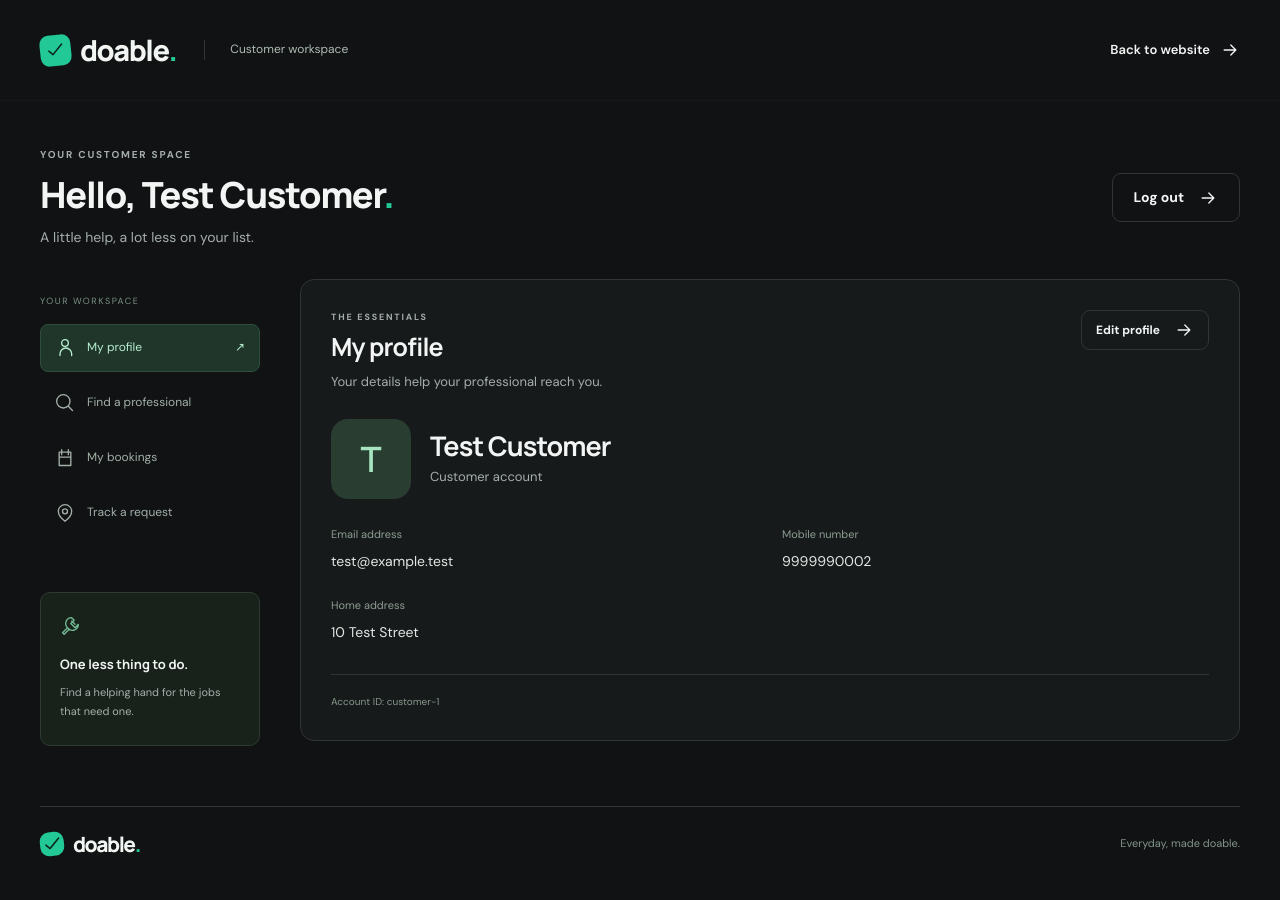
customer history and details show status, API clientAddress and existing photo attachments
Click the button "My bookings". click: (150, 458)
box: [40,434,260,482]
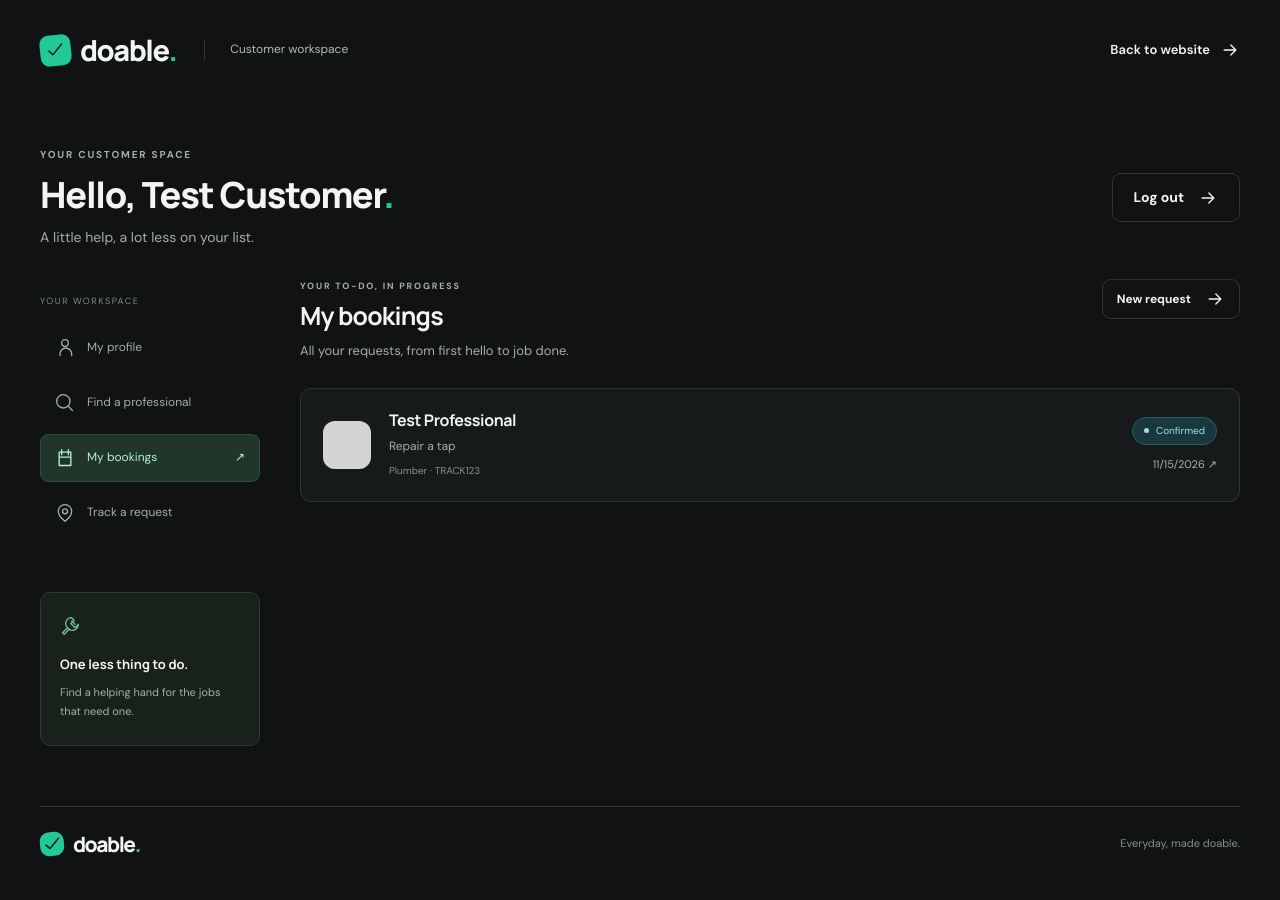
Now the text "confirmed" is shown, box [1132,417,1217,445]
Click the button that starts with "Test Professional". click: (347, 445)
box: [300,388,1240,502]
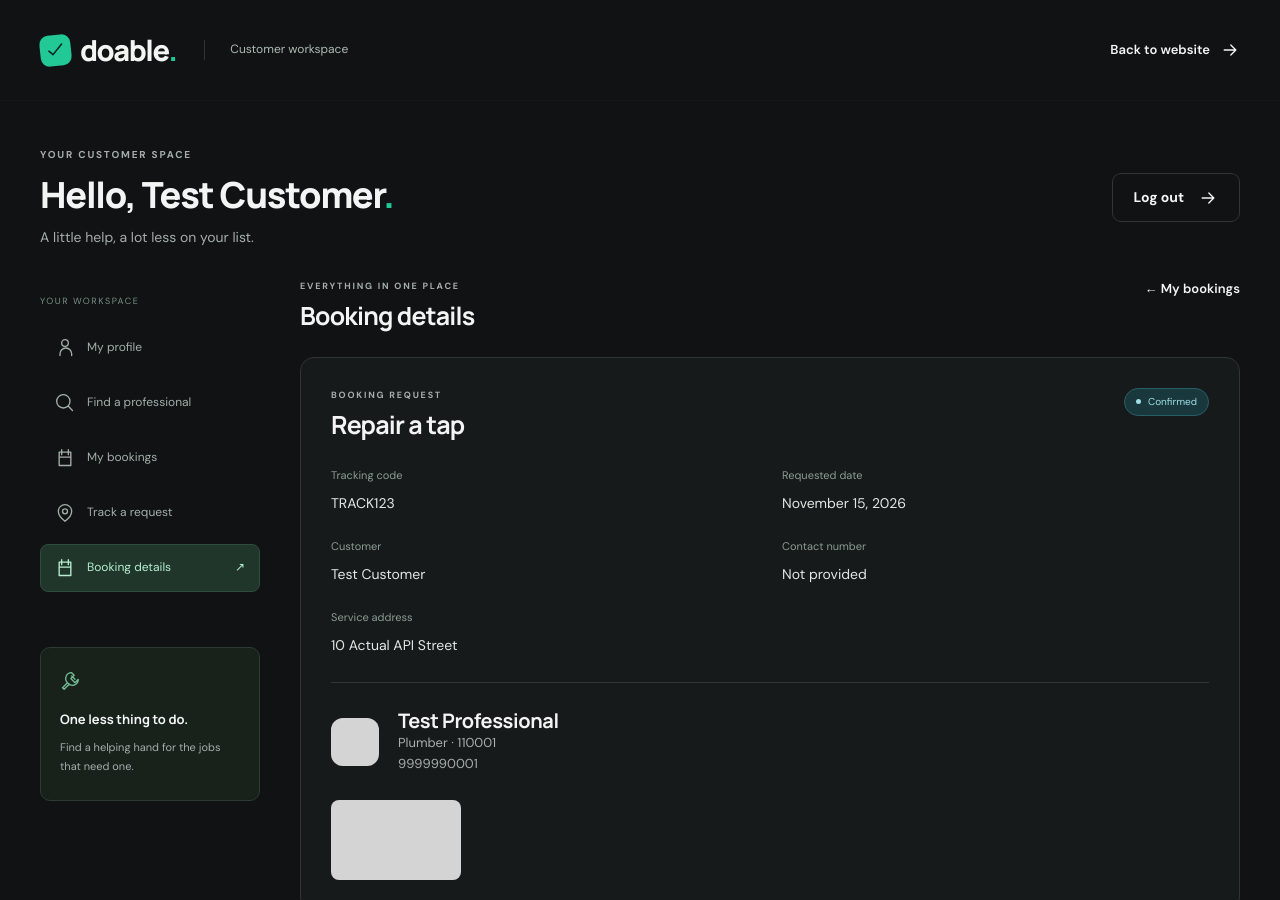
Now the text "confirmed" is shown, box [1124,388,1209,416]
Now the text "10 Actual API Street" is shown, box [331,636,458,654]
